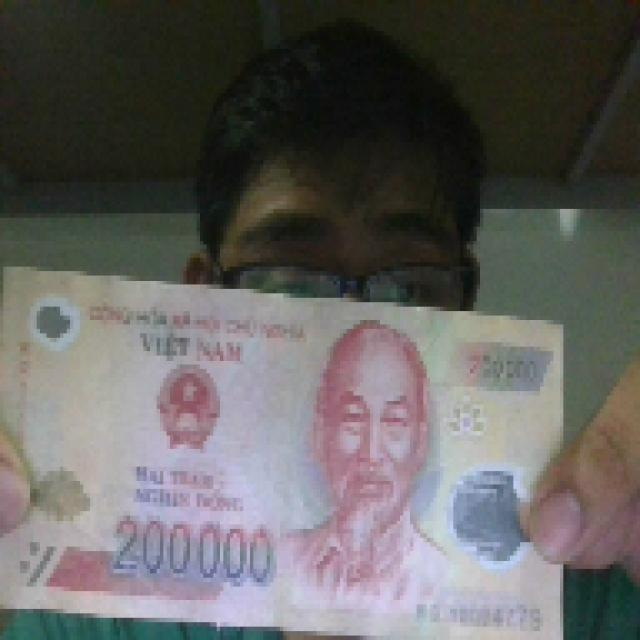200 000 VND: (0, 258, 567, 636)
